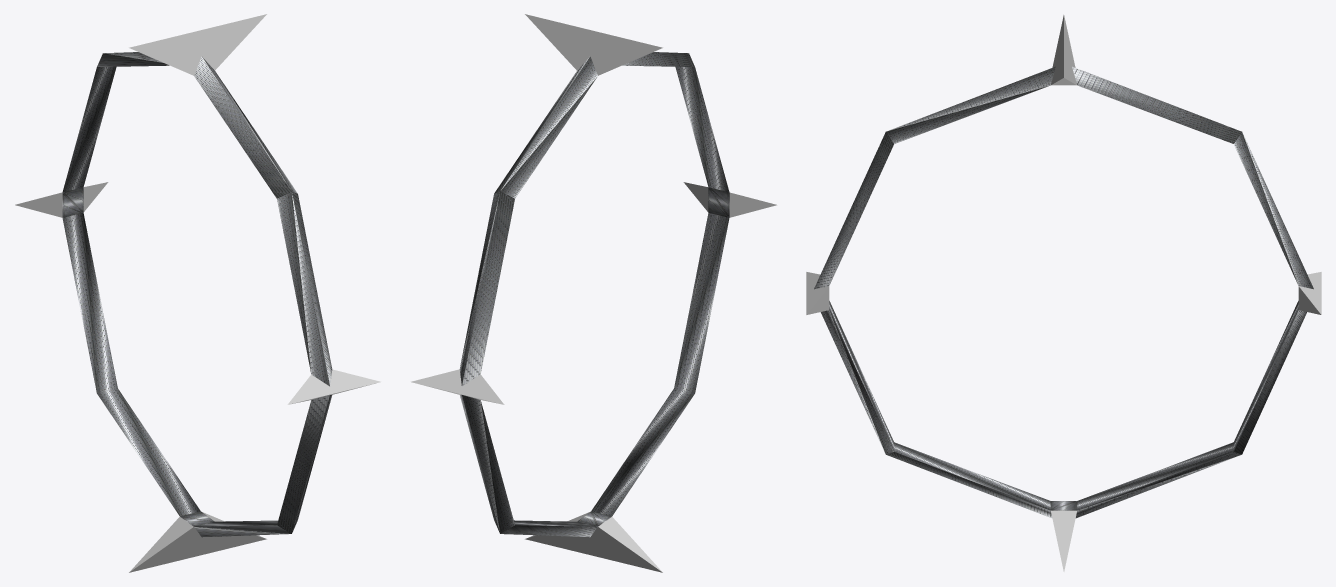
Rendered from TRACK_RING.fbx.
3 renders of one model, left to right at view 1: azimuth 30°, elevation 25°; view 2: azimuth 150°, elevation 25°; view 3: azimuth 270°, elevation 25°, orthographic. The views are drawn at different scales.
Parts seen in each view (by area): view 1: TRACK_RING_ms3d_mo; view 2: TRACK_RING_ms3d_mo; view 3: TRACK_RING_ms3d_mo.
Part boxes in pixels (x1,y1,x2,y2): TRACK_RING_ms3d_mo: [15, 14, 380, 572]; TRACK_RING_ms3d_mo: [411, 14, 776, 572]; TRACK_RING_ms3d_mo: [806, 15, 1321, 571].
Bounding box in the file's own units: 0.0927 × 0.3353 × 0.3162.
